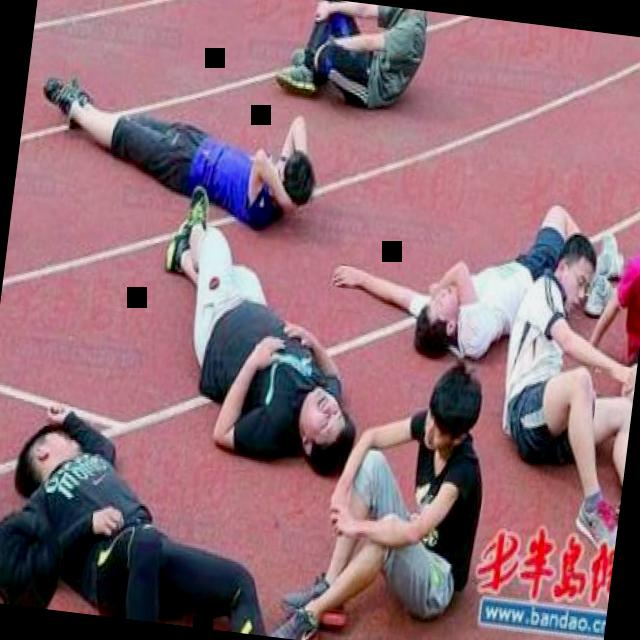Fall-Detected: (581, 165, 640, 419)
